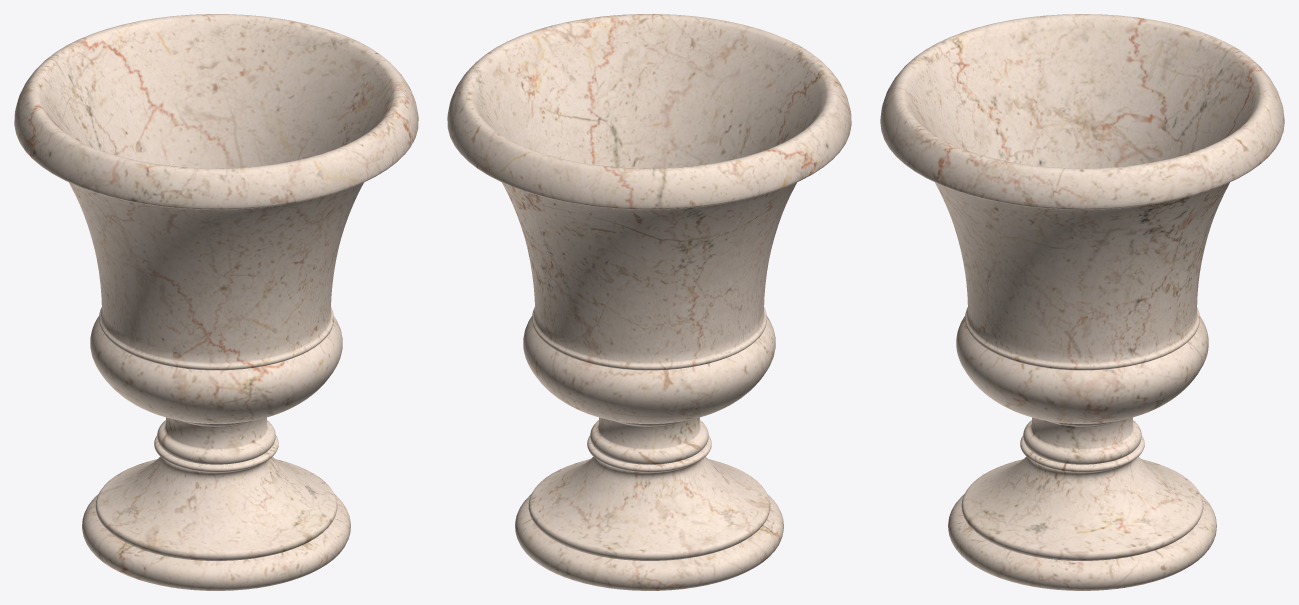
File: marble_vase.glb
3 renders of one model, left to right at view 1: azimuth 30°, elevation 25°; view 2: azimuth 150°, elevation 25°; view 3: azimuth 270°, elevation 25°, orthographic.
Parts seen in each view (by area): view 1: MarbleVase001 Solid_0; view 2: MarbleVase001 Solid_0; view 3: MarbleVase001 Solid_0.
Boxes of the visible parts, bbox=[...] form: MarbleVase001 Solid_0: bbox=[14, 14, 418, 590]; MarbleVase001 Solid_0: bbox=[447, 14, 851, 590]; MarbleVase001 Solid_0: bbox=[880, 14, 1284, 590].
Size of the model in its own units: 0.5571 by 0.679 by 0.5571.
1 material, 1 textured.
